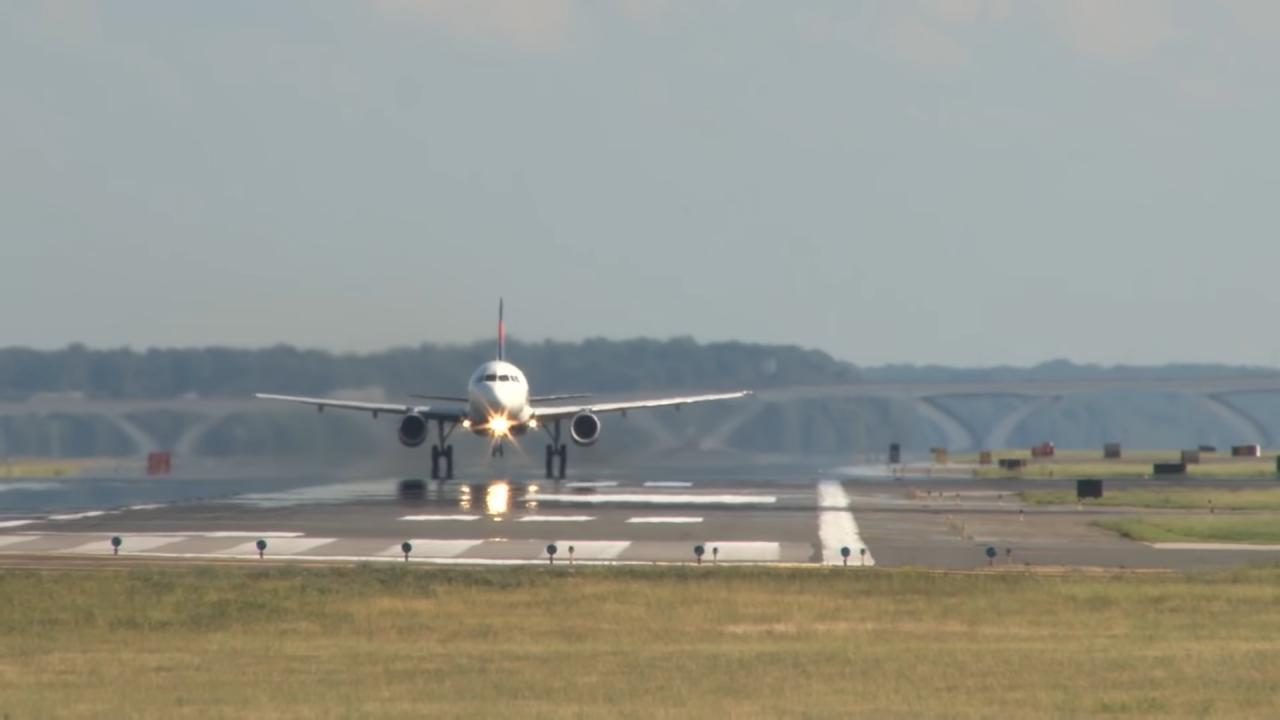Airplane: (243, 288, 769, 489)
